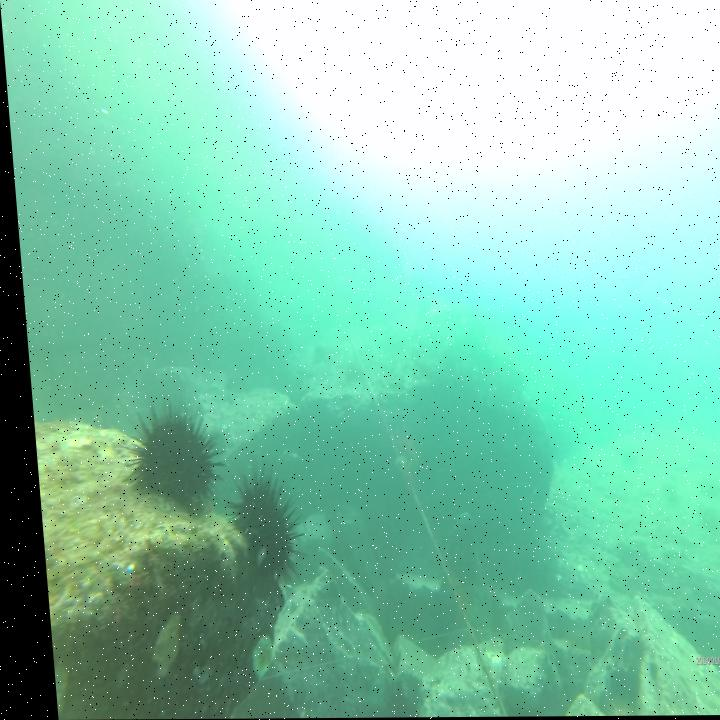echinus: (108, 399, 219, 522), (216, 470, 299, 580)
